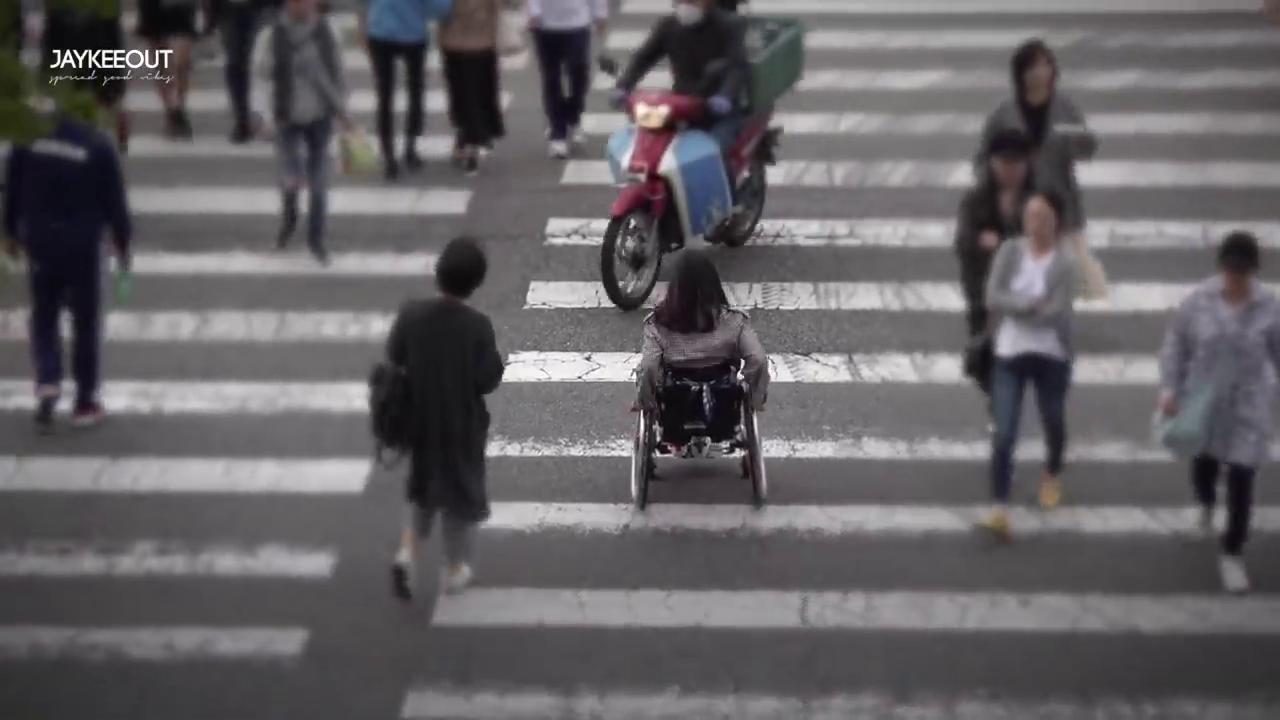wheelchair: (628, 251, 770, 506)
